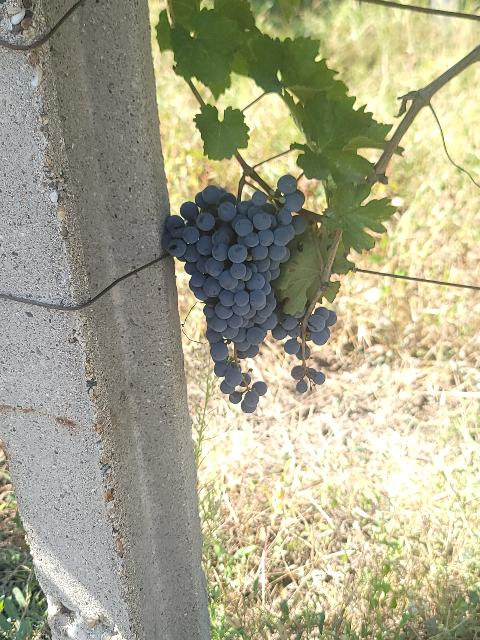grapes: (165, 175, 306, 410)
